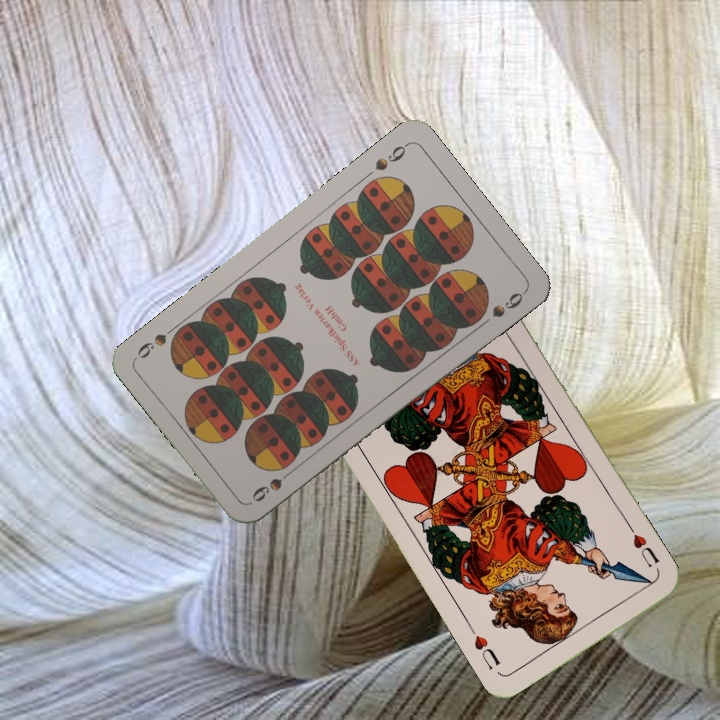HU: (629, 530, 662, 570)
S9: (247, 464, 298, 505), (370, 139, 411, 174)
